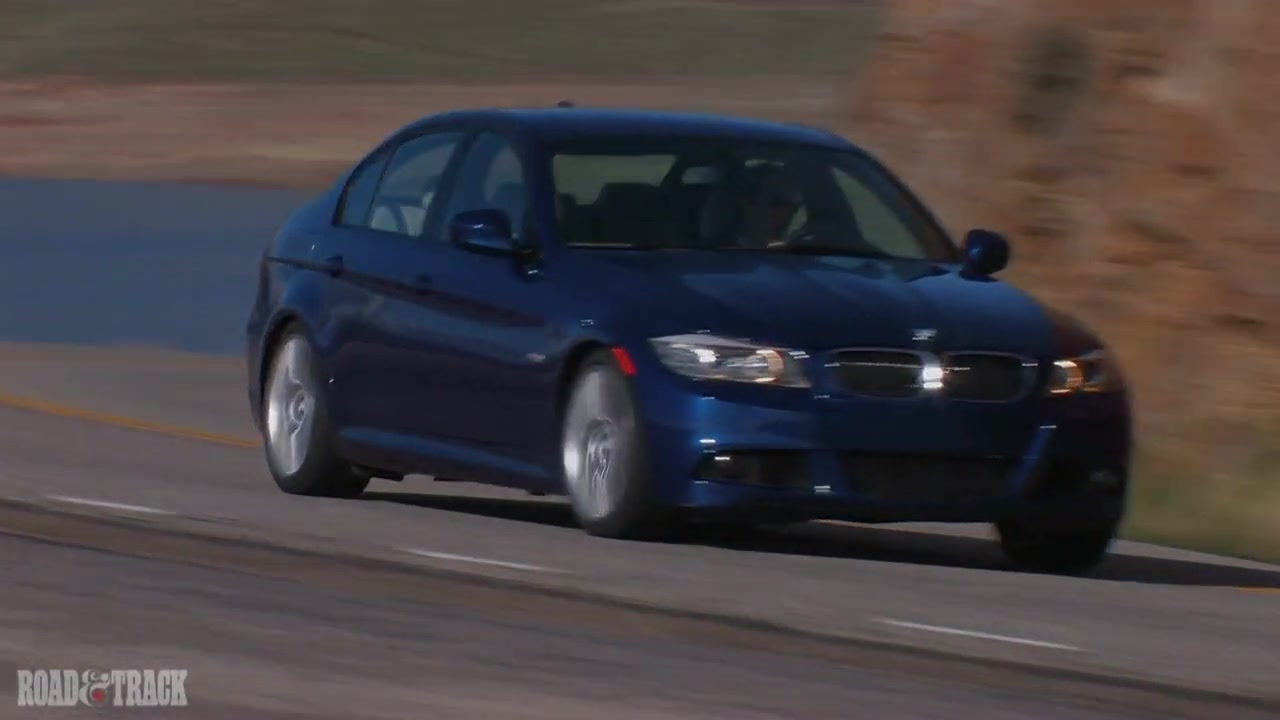car: (250, 103, 1133, 579)
